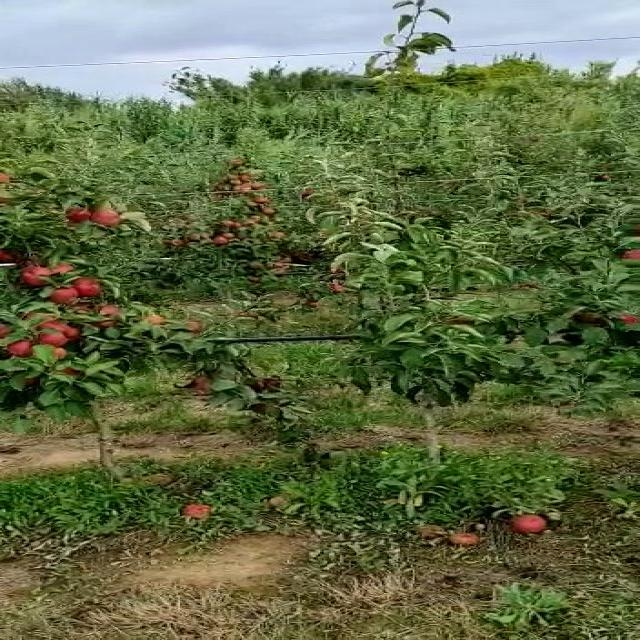100-_ripeness: (16, 265, 49, 289), (93, 303, 122, 327), (71, 278, 105, 298), (38, 326, 71, 346), (45, 287, 80, 305), (2, 339, 34, 358), (93, 211, 122, 225), (618, 245, 640, 261)
